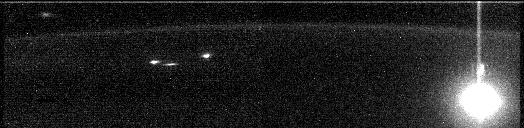positive: (470, 63, 489, 82)
